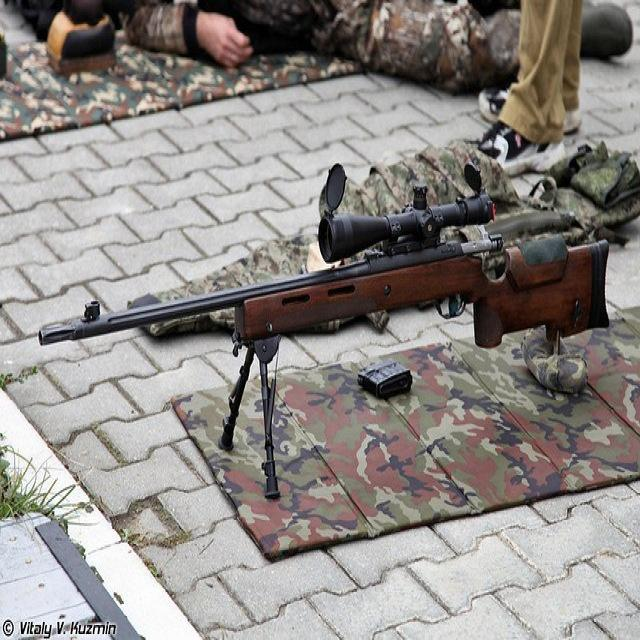firearm: (38, 160, 610, 350)
